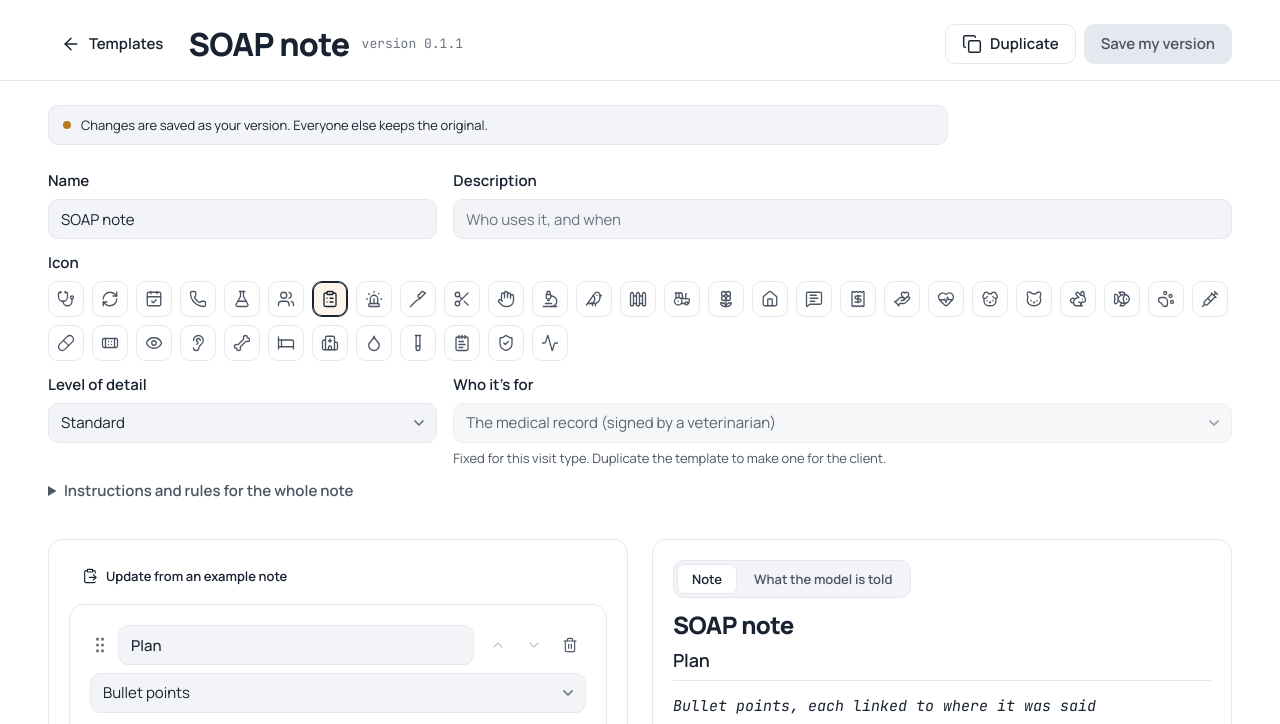
Test: Templates: the editor › lists the rules that always apply, with no inputs
The width and height of the screenshot is (1280, 724).
Click the heading "Instructions and rules for the whole note" at point(201, 491), box 48,479 -> 354,503
(page scrolled)
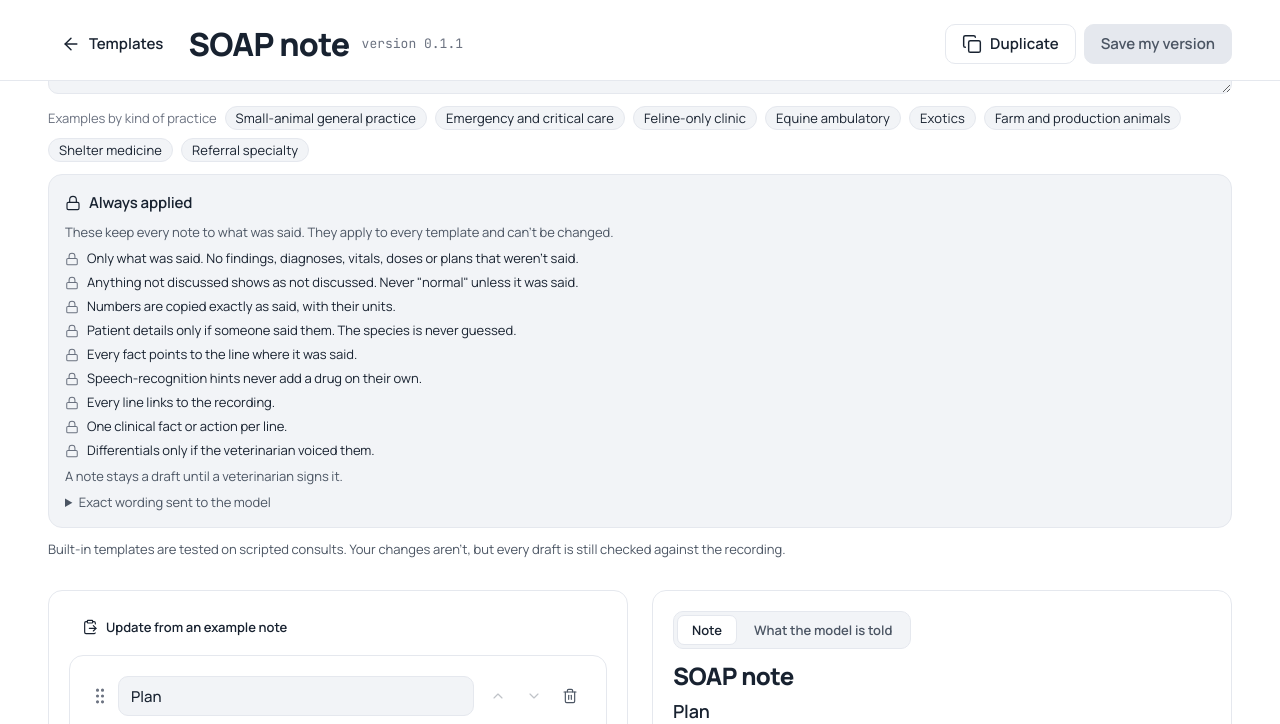
Now the text "Only what was said. No findings, diagnoses, vitals, doses or plans that weren't said." is shown, box 87,249 -> 579,267
Now the text "Anything not discussed shows as not discussed. Never \"normal\" unless it was said." is shown, box 87,273 -> 579,291
Now the text "Numbers are copied exactly as said, with their units." is shown, box 87,297 -> 396,315
